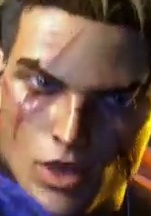kevin: (1, 14, 150, 204)
